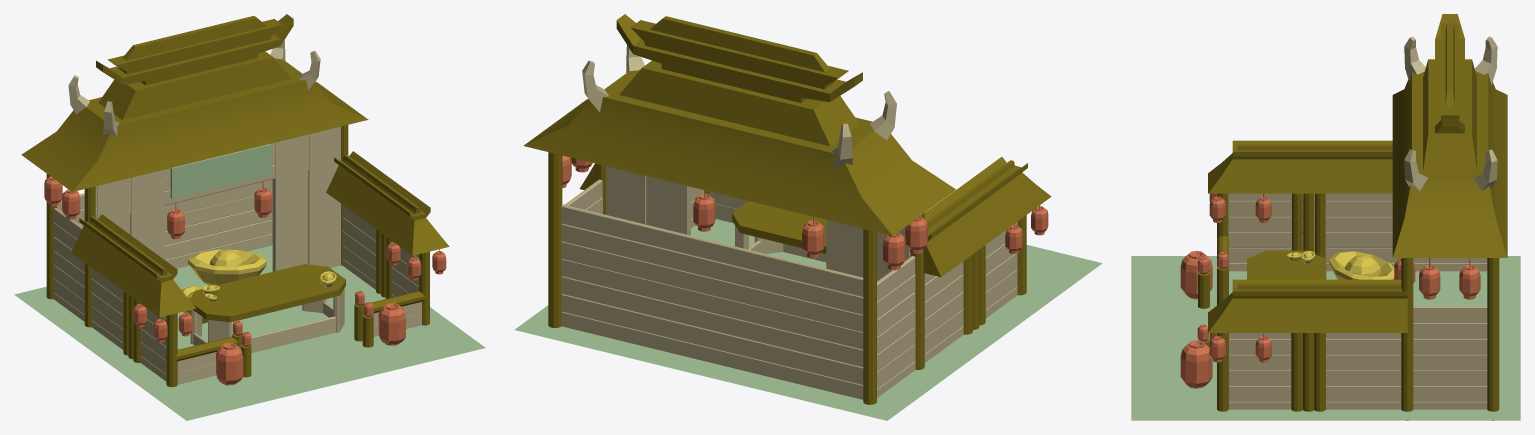
Rendered from 钱庄（uv已拆）.fbx.
The picture shows the model from 3 angles, left to right: view 1: azimuth 30°, elevation 25°; view 2: azimuth 150°, elevation 25°; view 3: azimuth 270°, elevation 25°; orthographic projection. The views are drawn at different scales.
Parts seen in each view (by area): view 1: polySurface543; view 2: polySurface543; view 3: polySurface543.
Part boxes in pixels (<box>): polySurface543: <box>14,14,485,420</box>; polySurface543: <box>514,14,1102,420</box>; polySurface543: <box>1131,14,1520,420</box>.
Bounding box in the file's own units: 23.96 × 19.72 × 23.96.
